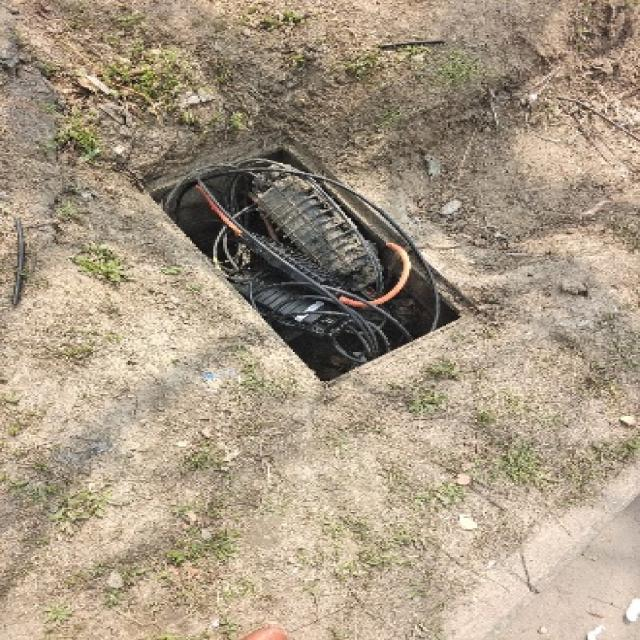Faulty: (119, 110, 518, 411)
